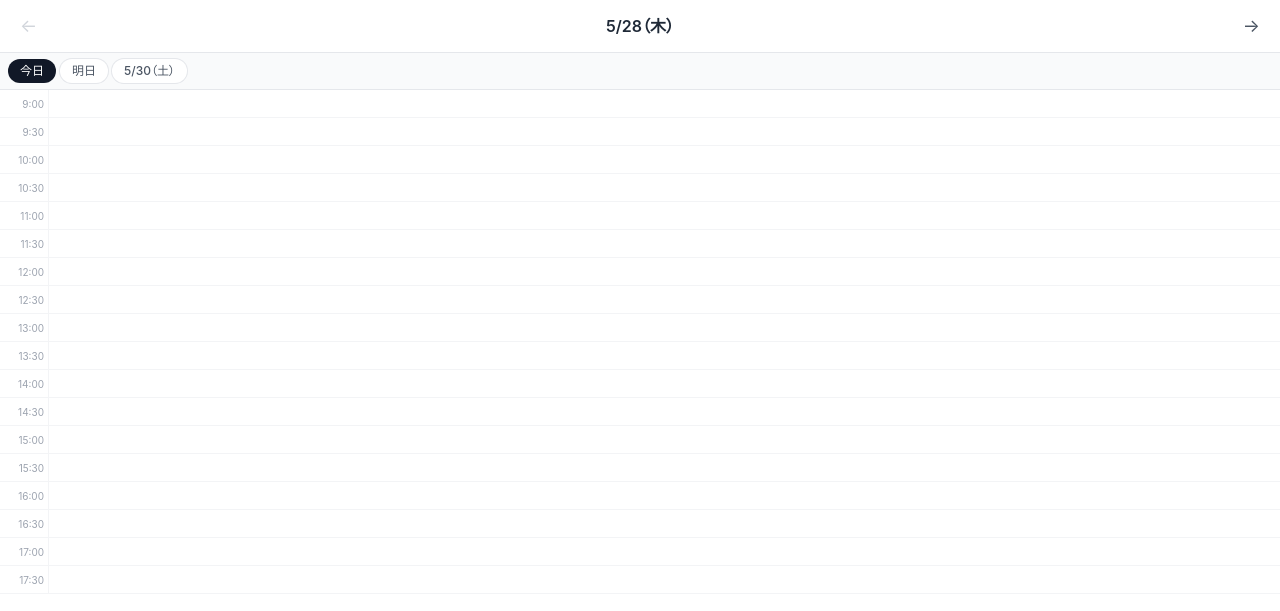
Test: MobileDayView › チップをクリックすると別日に切り替わる
The width and height of the screenshot is (1280, 611).
Click the button "明日".
click(84, 71)  # box [60,59,108,83]
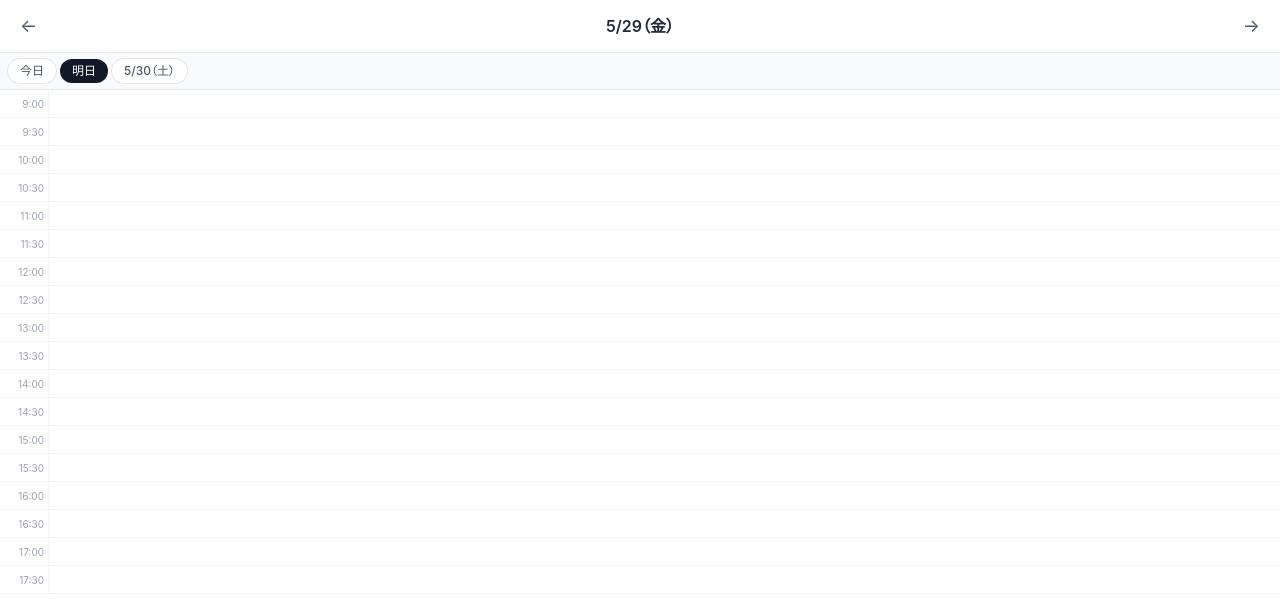
Expected: the text "5/29（金）" is shown, [606,14,674,38]
